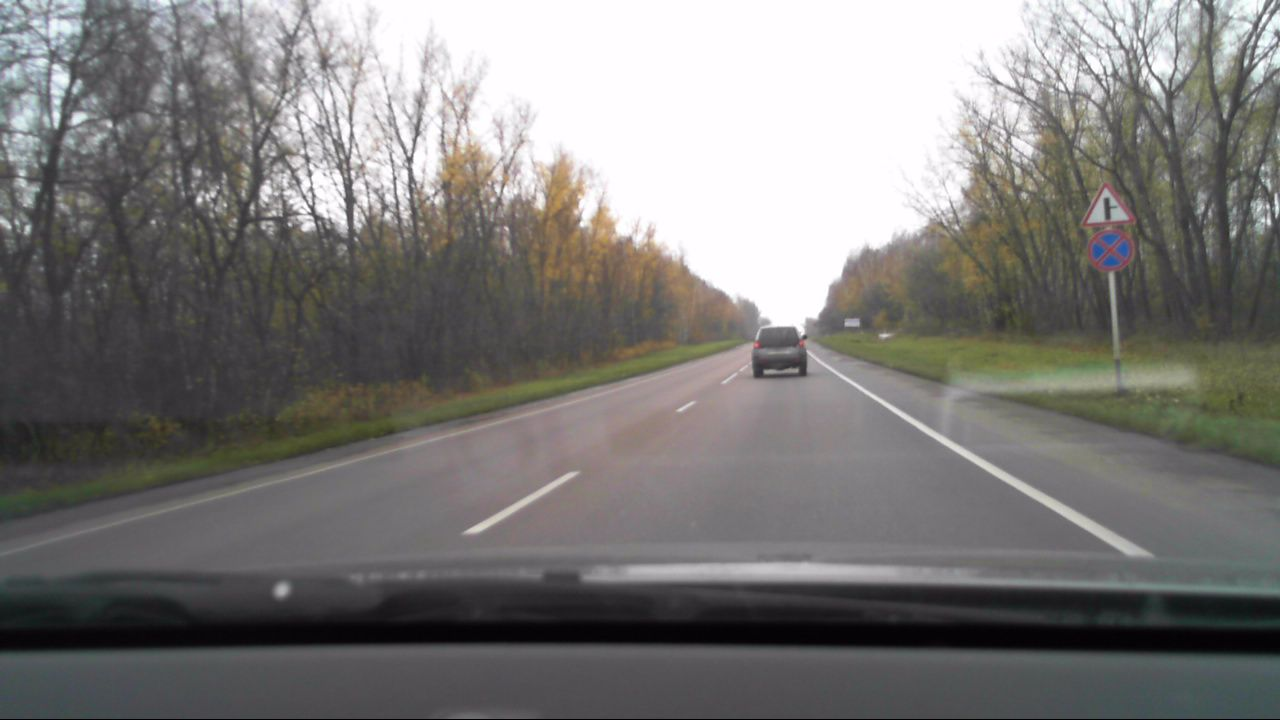No Parking: (1086, 228, 1137, 275)
